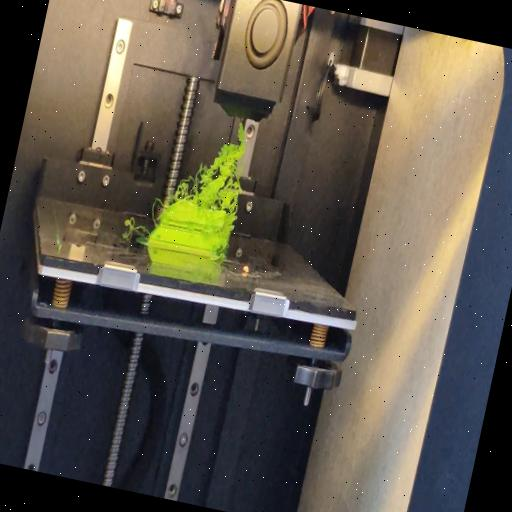spaghetti: (170, 113, 255, 216), (215, 214, 235, 258), (118, 216, 150, 238), (147, 194, 165, 223)
